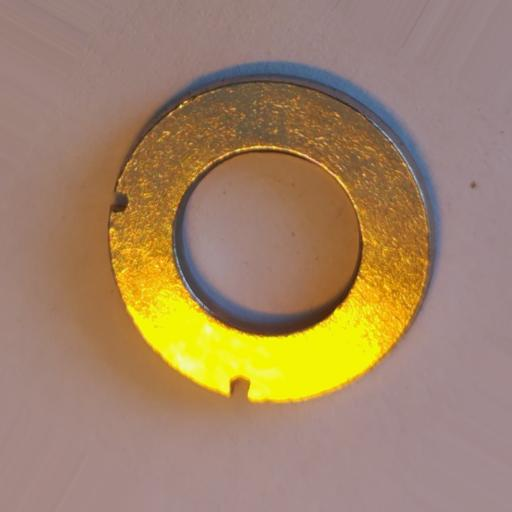burr: (226, 373, 252, 402), (109, 189, 131, 214)
